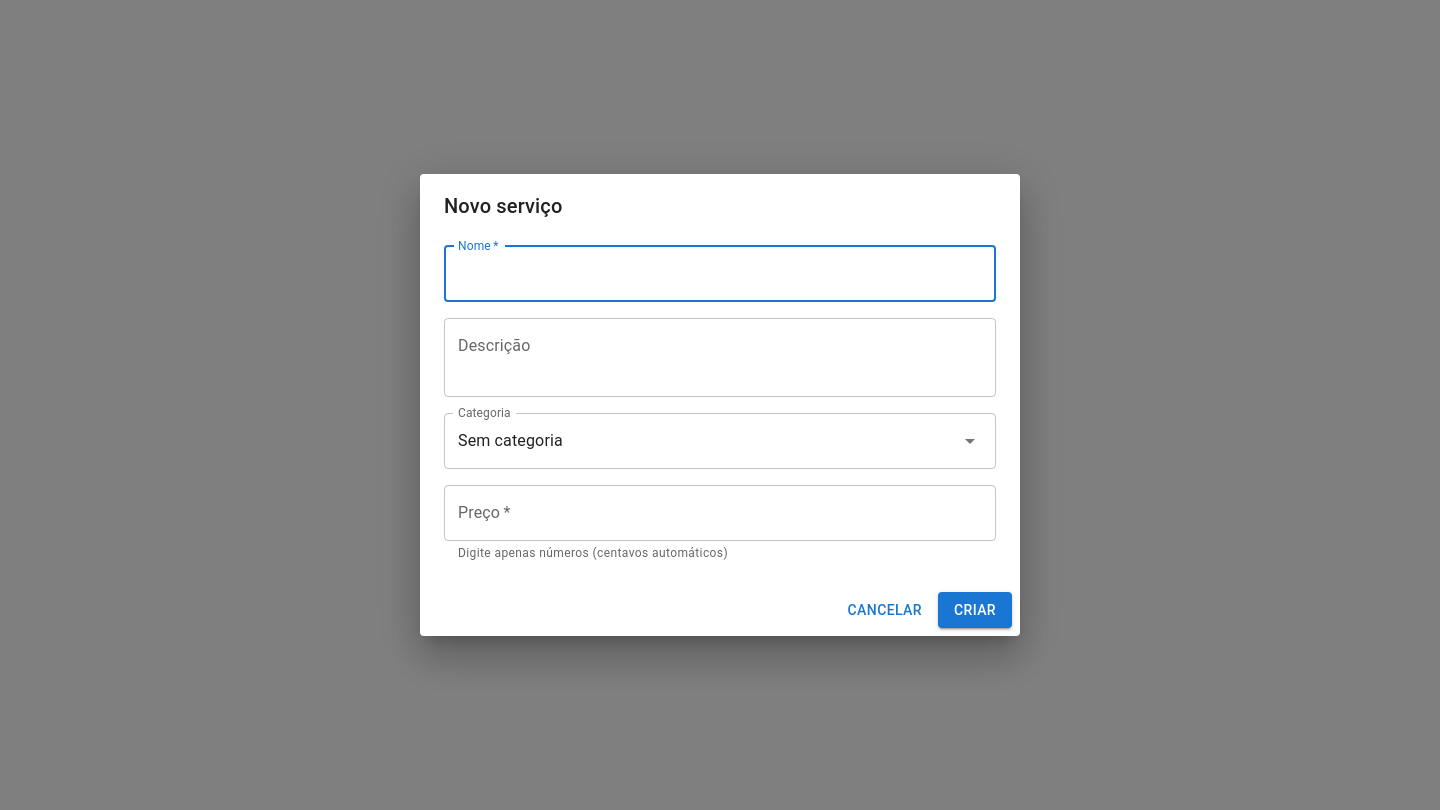
Test case: ServiceFormDialog (create) › exibe erro com preço inválido
The width and height of the screenshot is (1440, 810).
Type "PPR" into the field labelled "Nome *". click: coordinates (720, 274)
box: 444,246 -> 996,302
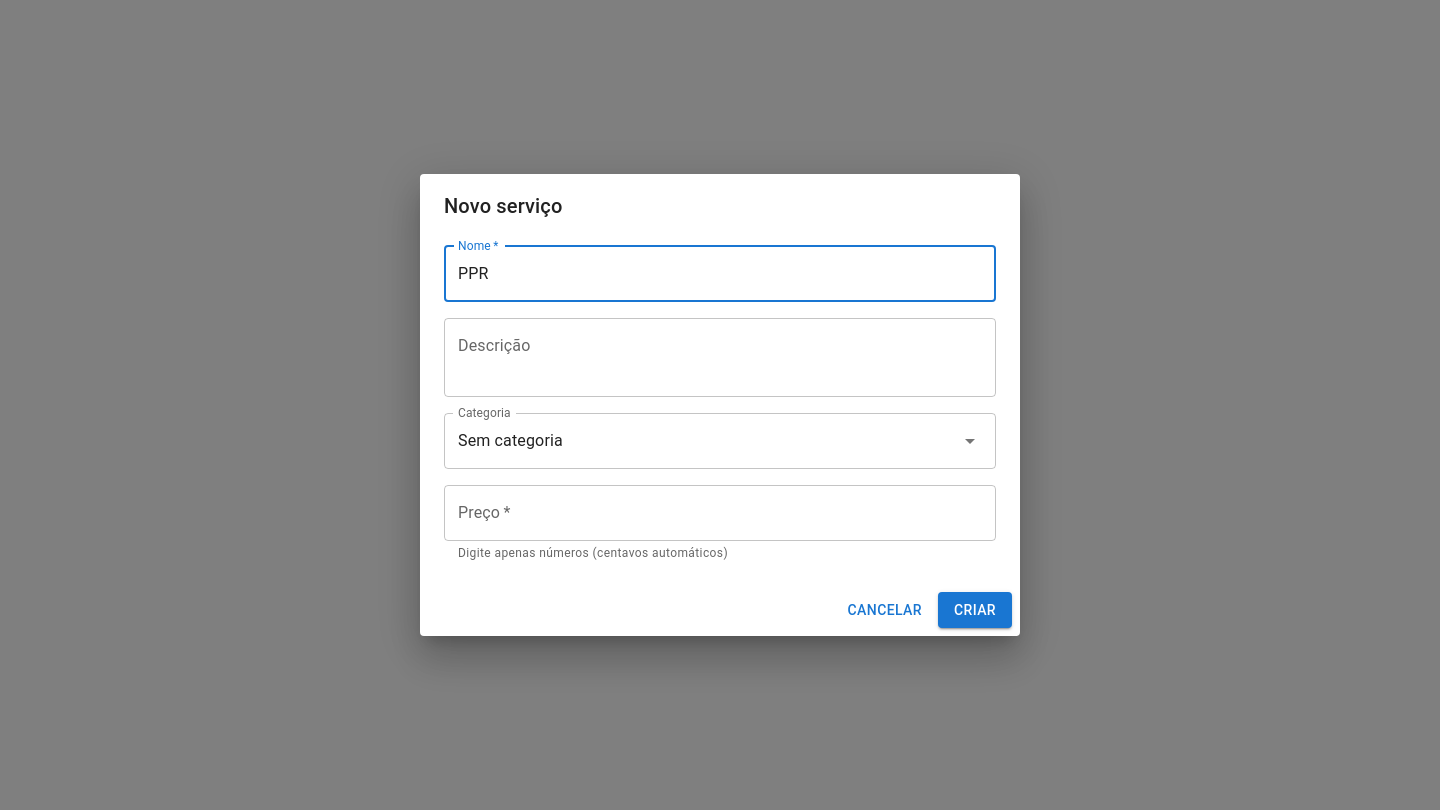
Type "abc" into the field labelled "Preço *". click: coordinates (720, 513)
box: 444,485 -> 996,541
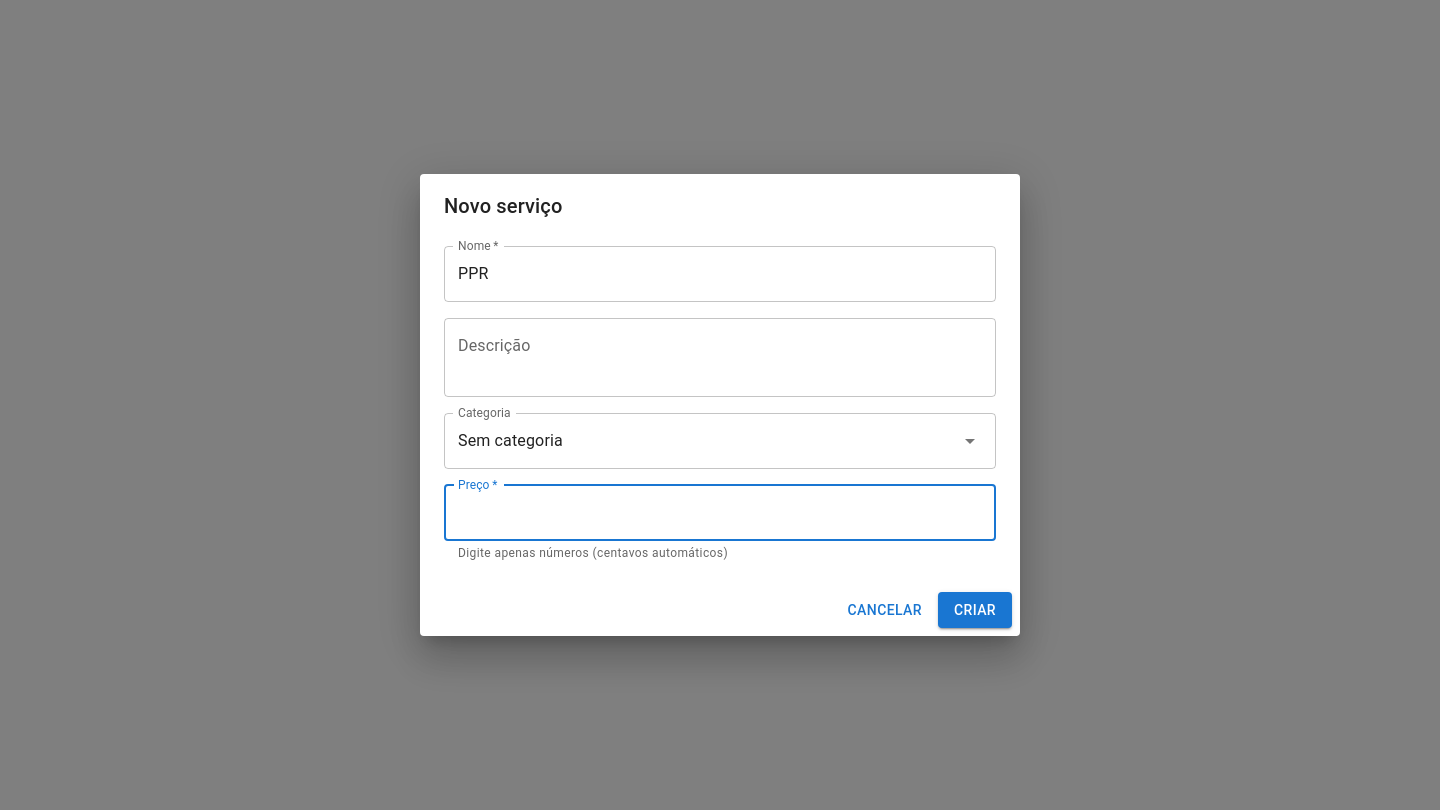
Click the button "Criar". click: coordinates (975, 610)
box: 938,592 -> 1012,628
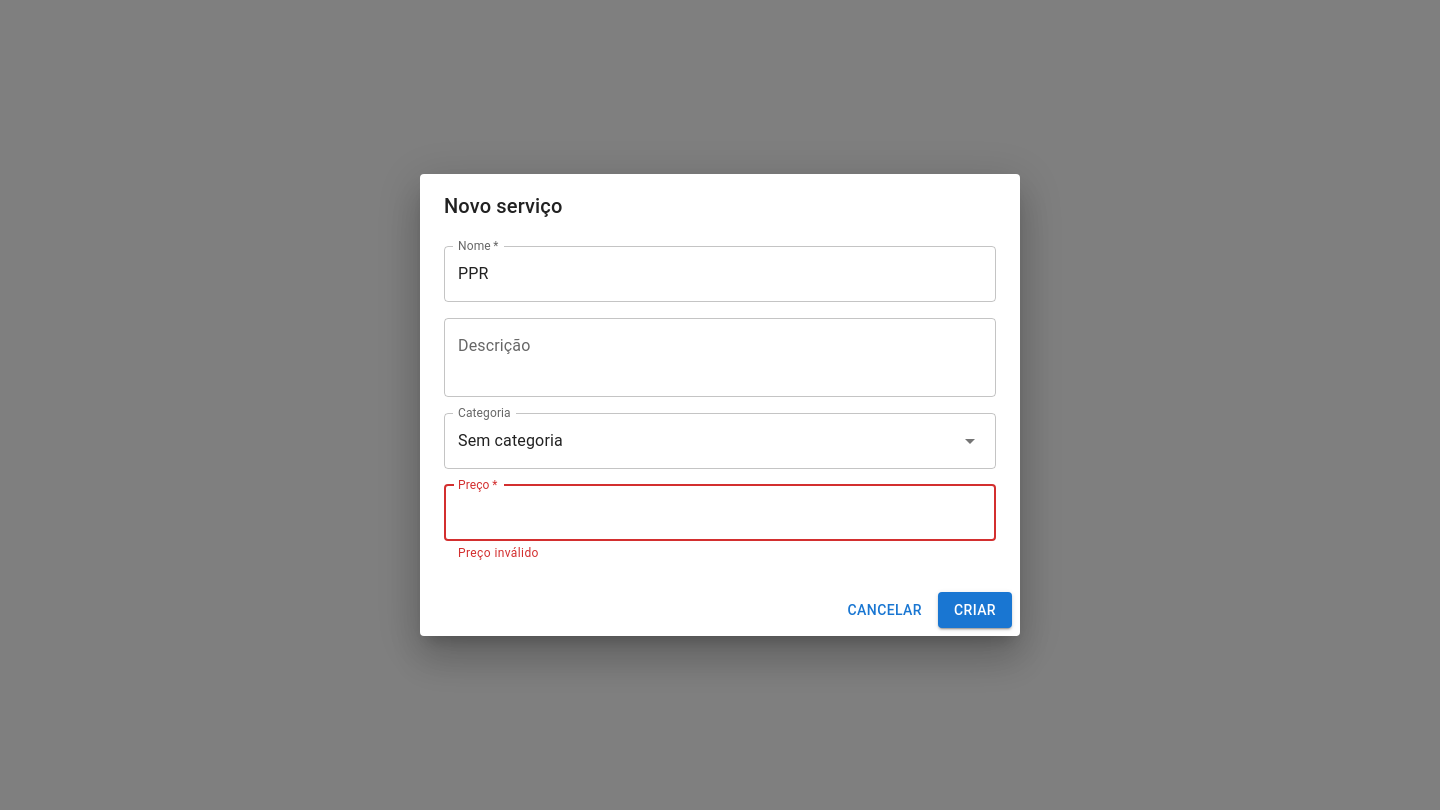
Check: the text "Preço inválido" is shown, box 458,546 -> 539,560
